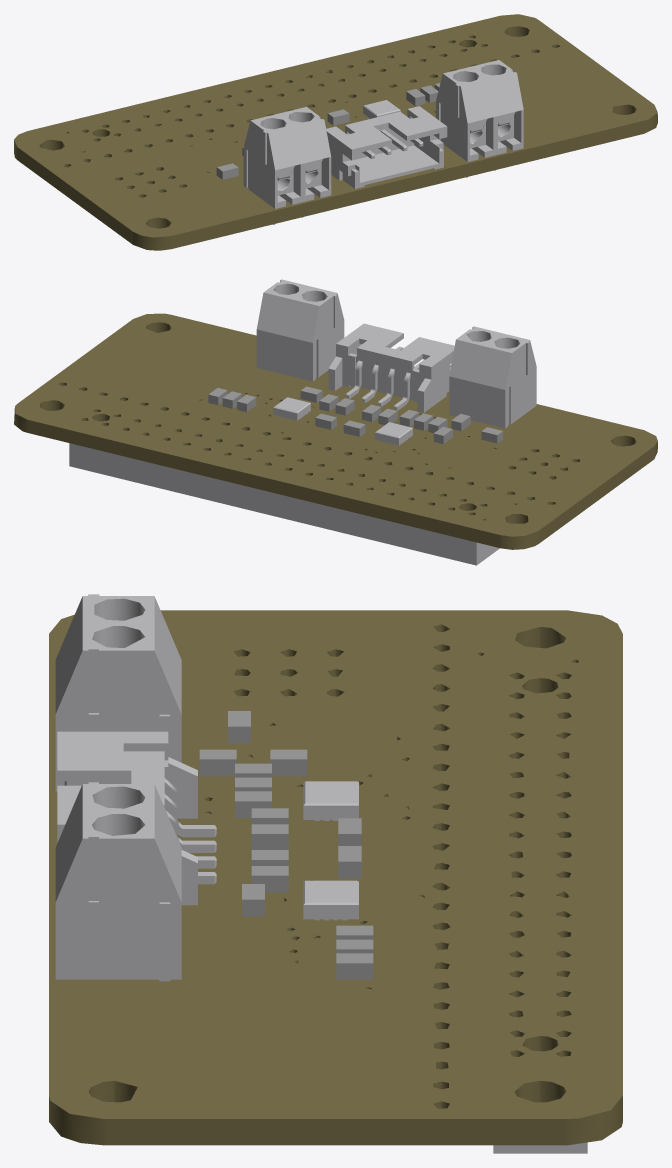
Rendered from ada-3346.glb.
3 renders of one model, top to bottom at view 1: azimuth 30°, elevation 25°; view 2: azimuth 150°, elevation 25°; view 3: azimuth 270°, elevation 25°, orthographic. The views are drawn at different scales.
Parts seen in each view (by area): view 1: 0.16666666666666666_0.16666666666666666_0.08333333333333333_, 0.5833333333333334_0.5833333333333334_0.5833333333333334_0.8, 0.3333333333333333_0.3333333333333333_0.3333333333333333_0; view 2: 0.16666666666666666_0.16666666666666666_0.08333333333333333_, 0.5833333333333334_0.5833333333333334_0.5833333333333334_0.8, 0.3333333333333333_0.3333333333333333_0.3333333333333333_0; view 3: 0.16666666666666666_0.16666666666666666_0.08333333333333333_, 0.5833333333333334_0.5833333333333334_0.5833333333333334_0.8, 0.3333333333333333_0.3333333333333333_0.3333333333333333_0.
Part boxes in pixels (x1,y1,x2,y2): 0.16666666666666666_0.16666666666666666_0.08333333333333333_: (14, 14, 657, 250); 0.5833333333333334_0.5833333333333334_0.5833333333333334_0.8: (243, 60, 523, 224); 0.3333333333333333_0.3333333333333333_0.3333333333333333_0: (216, 83, 440, 179); 0.16666666666666666_0.16666666666666666_0.08333333333333333_: (14, 313, 657, 549); 0.5833333333333334_0.5833333333333334_0.5833333333333334_0.8: (69, 279, 536, 565); 0.3333333333333333_0.3333333333333333_0.3333333333333333_0: (208, 386, 503, 444); 0.16666666666666666_0.16666666666666666_0.08333333333333333_: (49, 610, 622, 1145); 0.5833333333333334_0.5833333333333334_0.5833333333333334_0.8: (55, 594, 587, 1153); 0.3333333333333333_0.3333333333333333_0.3333333333333333_0: (199, 711, 373, 979).
Size of the model in its own units: 6.5 by 1.38 by 3.1.
